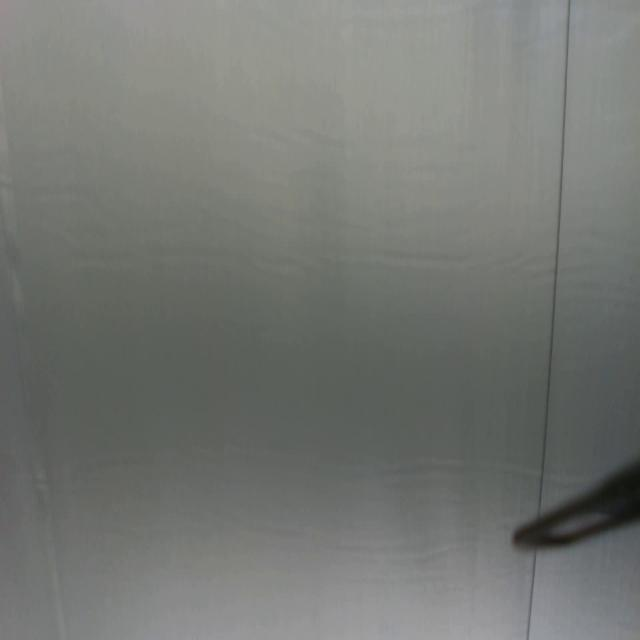crease: (538, 1, 573, 498), (524, 551, 539, 640)
